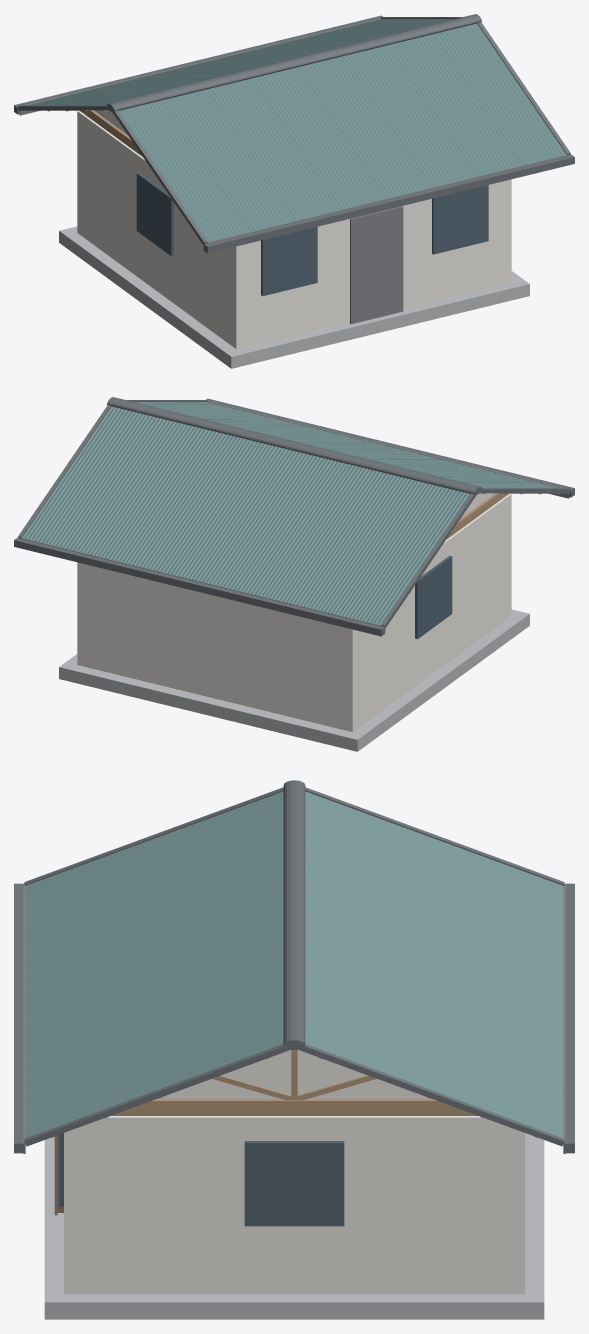
The model's file is Agua_Corr_1220_Starter_House_6x6.glb.
3 views of the same model, one above another, from view 1: azimuth 30°, elevation 25°; view 2: azimuth 150°, elevation 25°; view 3: azimuth 270°, elevation 25° (orthographic). The views are drawn at different scales.
Parts seen in each view (by area): view 1: GroundFloor_Walls, Foundation, RoofSheet_04, RoofSheet_05, RoofSheet_02, RoofSheet_07, RoofSheet_03, RoofSheet_06, RoofSheet_08, RoofSheet_01, Door_Frame, Gutter_Front (+19 smaller); view 2: GroundFloor_Walls, Foundation, RoofSheet_12, RoofSheet_13, RoofSheet_10, RoofSheet_15, RoofSheet_11, RoofSheet_14, RoofSheet_16, RoofSheet_09, Gutter_Back, Ridge_Cap (+16 smaller); view 3: GroundFloor_Walls, Foundation, Window_Side_Right, RoofSheet_02, RoofSheet_10, RoofSheet_03, RoofSheet_05, RoofSheet_06, RoofSheet_11, RoofSheet_13, RoofSheet_14, RoofSheet_04 (+19 smaller).
Part boxes in pixels (x1=…): GroundFloor_Walls: x1=77, y1=110, x2=511, y2=349; Foundation: x1=59, y1=226, x2=529, y2=368; RoofSheet_04: x1=252, y1=67, x2=386, y2=209; RoofSheet_05: x1=297, y1=56, x2=431, y2=198; RoofSheet_02: x1=161, y1=89, x2=295, y2=231; RoofSheet_07: x1=388, y1=34, x2=522, y2=176; RoofSheet_03: x1=207, y1=78, x2=340, y2=220; RoofSheet_06: x1=342, y1=45, x2=476, y2=187; RoofSheet_08: x1=433, y1=23, x2=566, y2=165; RoofSheet_01: x1=119, y1=100, x2=250, y2=242; Door_Frame: x1=350, y1=206, x2=403, y2=324; Gutter_Front: x1=203, y1=154, x2=574, y2=253; GroundFloor_Walls: x1=77, y1=493, x2=511, y2=732; Foundation: x1=59, y1=609, x2=529, y2=751; RoofSheet_12: x1=202, y1=450, x2=336, y2=592; RoofSheet_13: x1=157, y1=439, x2=291, y2=581; RoofSheet_10: x1=293, y1=472, x2=427, y2=614; RoofSheet_15: x1=66, y1=417, x2=200, y2=559; RoofSheet_11: x1=248, y1=461, x2=381, y2=603; RoofSheet_14: x1=112, y1=428, x2=246, y2=570; RoofSheet_16: x1=22, y1=406, x2=155, y2=548; RoofSheet_09: x1=338, y1=483, x2=469, y2=625; Gutter_Back: x1=14, y1=537, x2=385, y2=636; Ridge_Cap: x1=107, y1=397, x2=481, y2=495; GroundFloor_Walls: x1=64, y1=1116, x2=524, y2=1293; Foundation: x1=44, y1=1133, x2=544, y2=1319; Window_Side_Right: x1=244, y1=1141, x2=344, y2=1226; RoofSheet_02: x1=25, y1=823, x2=283, y2=949; RoofSheet_10: x1=305, y1=823, x2=563, y2=949; RoofSheet_03: x1=25, y1=855, x2=283, y2=981; RoofSheet_05: x1=25, y1=919, x2=283, y2=1045; RoofSheet_06: x1=25, y1=952, x2=283, y2=1077; RoofSheet_11: x1=305, y1=855, x2=563, y2=981; RoofSheet_13: x1=305, y1=919, x2=563, y2=1045; RoofSheet_14: x1=305, y1=952, x2=563, y2=1077; RoofSheet_04: x1=25, y1=887, x2=283, y2=1013.
Size of the model in its own units: 8 by 4.36 by 7.3.
